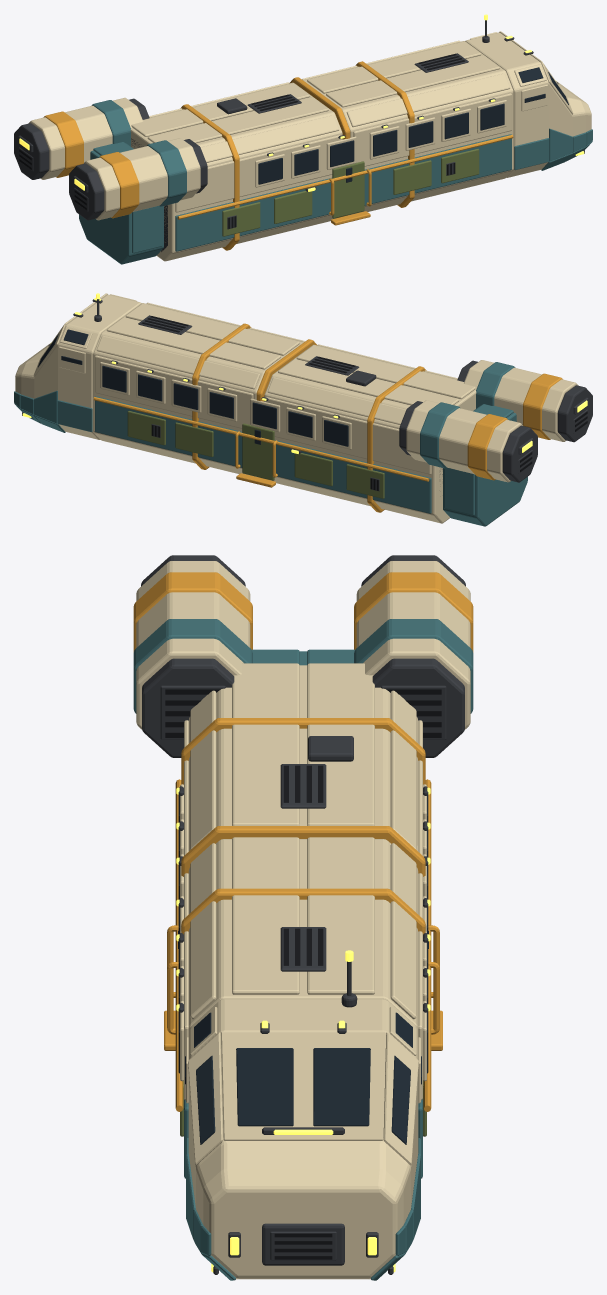
Rendered from transport.glb.
3 renders of one model, top to bottom at view 1: azimuth 30°, elevation 25°; view 2: azimuth 150°, elevation 25°; view 3: azimuth 270°, elevation 25°, orthographic. The views are drawn at different scales.
Visible parts, largest first — view 1: hull body, drive body; view 2: hull body, drive body; view 3: hull body, drive body.
Boxes of the visible parts, box(x1,y1,x2,y2) form: hull body: box(79, 20, 592, 264); drive body: box(14, 97, 207, 220); hull body: box(14, 293, 527, 526); drive body: box(399, 360, 592, 482); hull body: box(164, 649, 442, 1280); drive body: box(133, 555, 473, 757).
Size of the model in its own units: 13.09 by 3.37 by 3.7.
